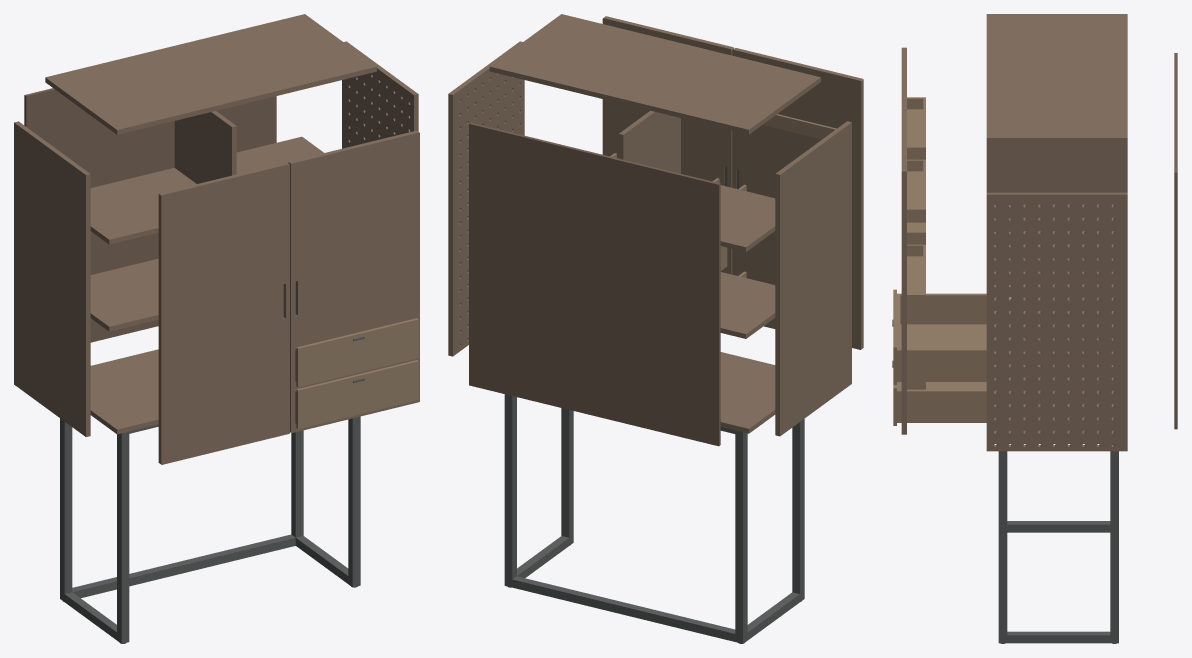
File: exploded.glb
3 renders of one model, left to right at view 1: azimuth 30°, elevation 25°; view 2: azimuth 150°, elevation 25°; view 3: azimuth 270°, elevation 25°, orthographic. The views are drawn at different scales.
Visible parts, largest first — view 1: B30-door, B31-door, B02-left-side, B01-top, B04-back, D0-face, D1-face, B03-right-pegboard, B00-bottom, B11-left-shelf, B10-left-shelf, B05-divider (+8 smaller); view 2: B04-back, B02-left-side, B01-top, B30-door, B03-right-pegboard, B31-door, B00-bottom, B05-divider, B10-left-shelf, B11-left-shelf, A2-low-rear, A0-post-0-1 (+6 smaller); view 3: B03-right-pegboard, B01-top, B05-divider, D0-right, D1-right, D1-left, D1-bottom, B31-door, A0-post-1-0, A0-post-1-1, B02-left-side, B04-back (+6 smaller).
Part boxes in pixels (<box>): B30-door: <box>158,162,289,464</box>; B31-door: <box>288,130,419,433</box>; B02-left-side: <box>14,121,90,436</box>; B01-top: <box>45,14,376,134</box>; B04-back: <box>24,88,276,342</box>; D0-face: <box>296,360,418,429</box>; D1-face: <box>296,318,418,387</box>; B03-right-pegboard: <box>342,41,418,148</box>; B00-bottom: <box>90,349,158,434</box>; B11-left-shelf: <box>90,167,196,244</box>; B10-left-shelf: <box>90,258,158,331</box>; B05-divider: <box>174,111,236,183</box>; B04-back: <box>469,122,720,446</box>; B02-left-side: <box>775,121,851,436</box>; B01-top: <box>489,14,820,134</box>; B30-door: <box>732,48,863,349</box>; B03-right-pegboard: <box>448,41,524,356</box>; B31-door: <box>602,16,733,274</box>; B00-bottom: <box>720,352,775,433</box>; B05-divider: <box>618,110,680,173</box>; B10-left-shelf: <box>720,272,775,338</box>; B11-left-shelf: <box>720,185,775,251</box>; A2-low-rear: <box>512,576,735,641</box>; A0-post-0-1: <box>735,433,747,643</box>; B03-right-pegboard: <box>986,192,1127,451</box>; B01-top: <box>986,14,1127,142</box>; B05-divider: <box>1011,143,1124,364</box>; D0-right: <box>897,389,996,420</box>; D1-right: <box>897,348,996,379</box>; D1-left: <box>897,293,986,324</box>; D1-bottom: <box>897,324,986,381</box>; B31-door: <box>901,109,906,434</box>; A0-post-1-0: <box>998,451,1007,643</box>; A0-post-1-1: <box>1110,444,1118,643</box>; B02-left-side: <box>986,143,1127,284</box>; B04-back: <box>1174,53,1177,429</box>.
Bounding box in the file's own units: 1.28 × 1.92 × 0.972.
